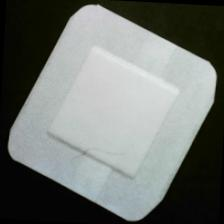Dressing: (2, 1, 223, 224)
F_Body: (63, 137, 137, 172)
